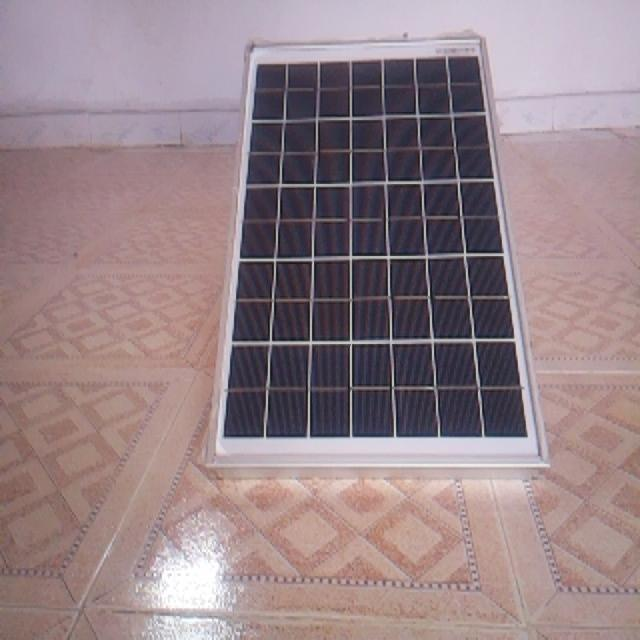Normal Solar Panel: (208, 33, 550, 477)
